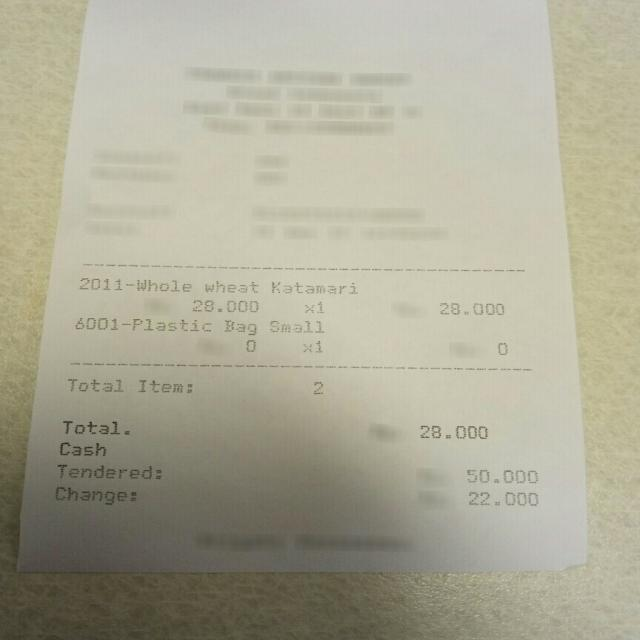kertas: (18, 0, 587, 573)
